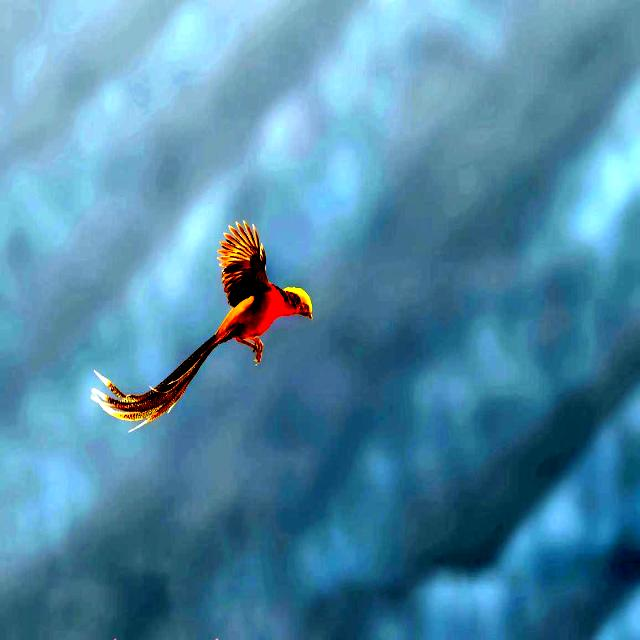Chrysolophus pictus feather: (90, 338, 218, 433)
